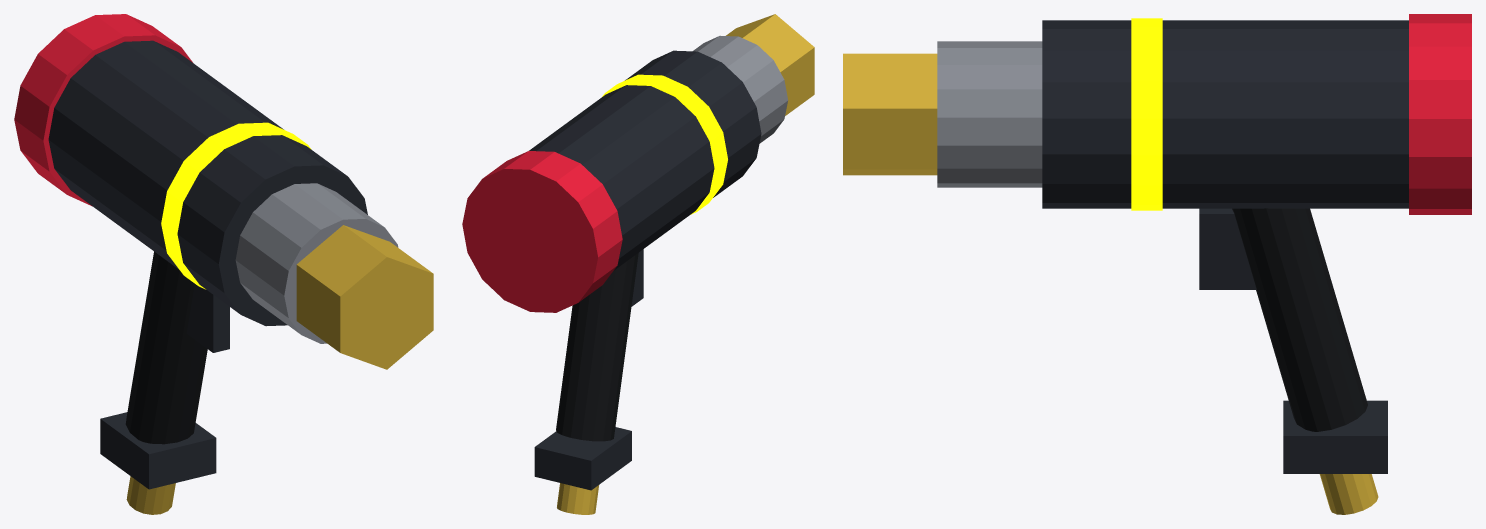
The model's file is wheel_gun.glb.
3 views of the same model, side by side, from view 1: azimuth 30°, elevation 25°; view 2: azimuth 150°, elevation 25°; view 3: azimuth 270°, elevation 25° (orthographic). The views are drawn at different scales.
Parts seen in each view (by area): view 1: Prop_WheelGun; view 2: Prop_WheelGun; view 3: Prop_WheelGun.
Part boxes in pixels (x1,y1,x2,y2): Prop_WheelGun: (14,14,433,514); Prop_WheelGun: (462,14,814,514); Prop_WheelGun: (843,14,1471,514).
Bounding box in the file's own units: 0.096 × 0.2556 × 0.3.
